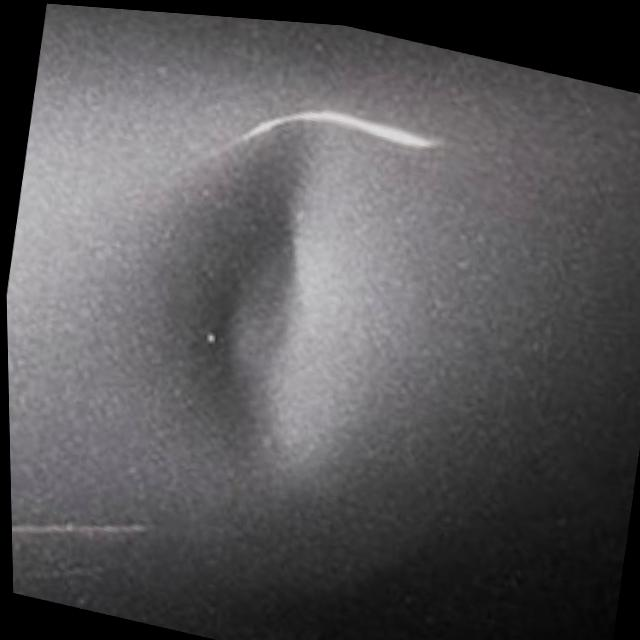Dent: (156, 106, 406, 485)
Scratch: (238, 106, 438, 153), (12, 517, 160, 536)
